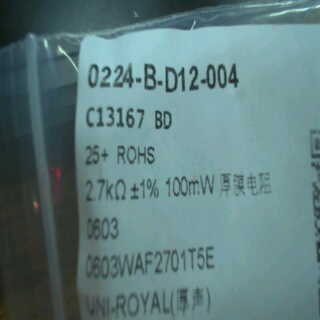2.7kR: (82, 174, 127, 207)
